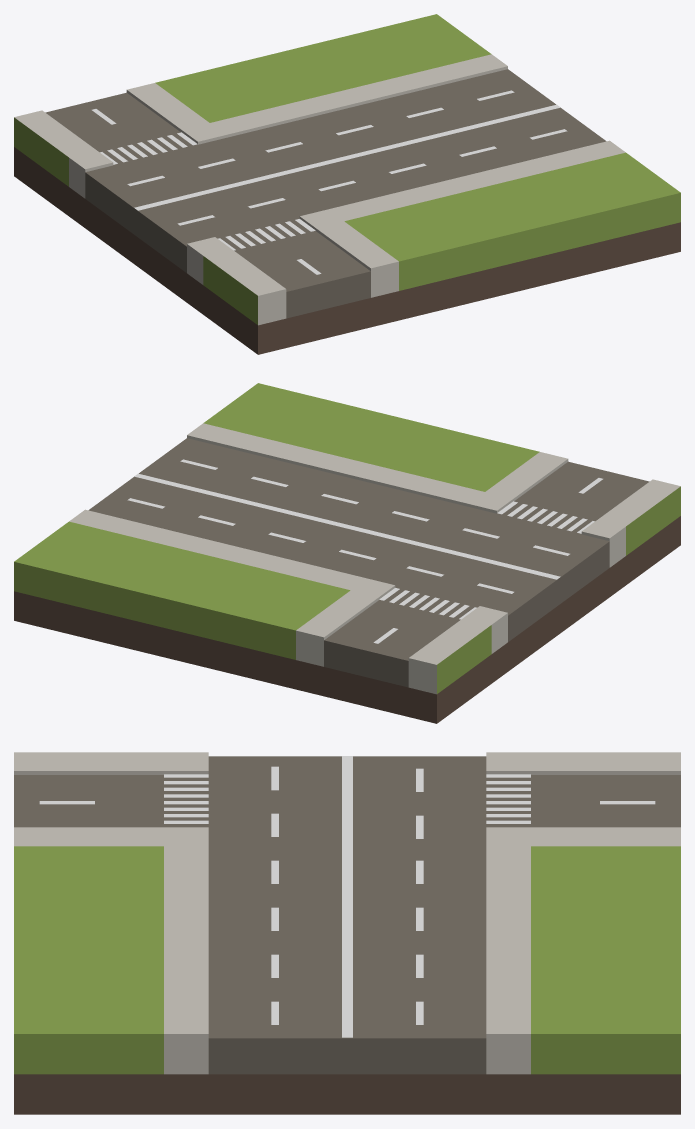
The model's file is mainroad-tile-crossing-start.fbx.
3 renders of one model, top to bottom at view 1: azimuth 30°, elevation 25°; view 2: azimuth 150°, elevation 25°; view 3: azimuth 270°, elevation 25°, orthographic. The views are drawn at different scales.
Visible parts, largest first — view 1: mainroad-tile-crossing-start; view 2: mainroad-tile-crossing-start; view 3: mainroad-tile-crossing-start.
Boxes of the visible parts, x1,y1,x2,y2 form: mainroad-tile-crossing-start: (14, 14, 680, 354); mainroad-tile-crossing-start: (14, 383, 680, 723); mainroad-tile-crossing-start: (14, 752, 680, 1114).
Bounding box in the file's own units: 3000 × 400 × 3000.
